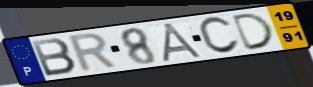8: (119, 26, 158, 66)
A: (160, 22, 207, 64)
B: (29, 37, 79, 78)
C: (197, 15, 243, 56)
D: (231, 11, 278, 52)
R: (67, 31, 121, 75)
